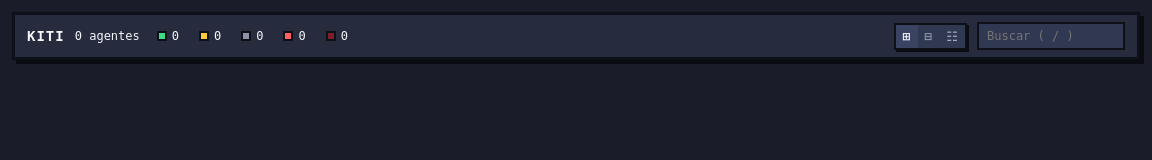
Test: TopBar › los contadores filtran por estado y se pueden combinar
This screenshot has width=1152, height=160.
Step 1. Click the button with test id "count-waiting" → (210, 36), box [192,25,228,47]
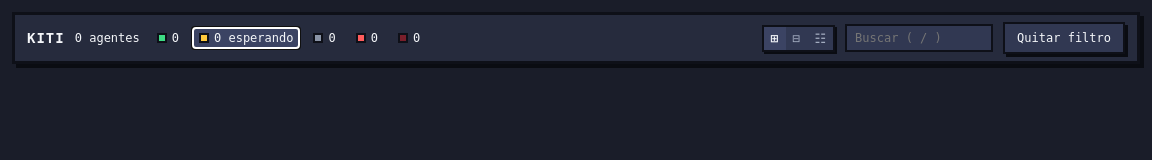
Now the button with test id "count-waiting" is pressed, box [192,27,300,49]
Step 2. Click the button with test id "count-error" → (367, 38), box [349,27,385,49]
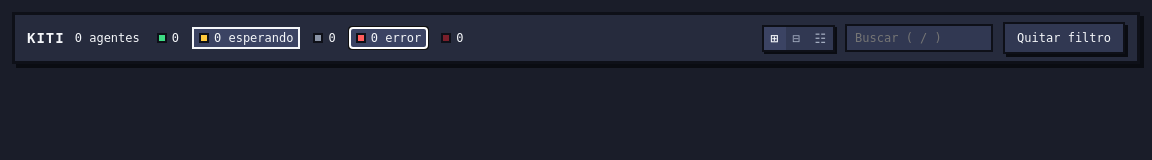
Step 3. Click the button "Quitar filtro" → (1064, 38), box [1003,22,1125,54]
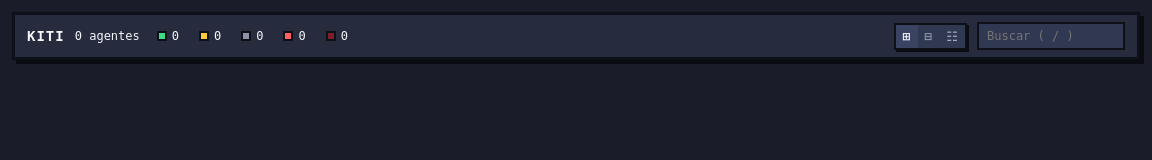
Now the button "Quitar filtro" is gone
